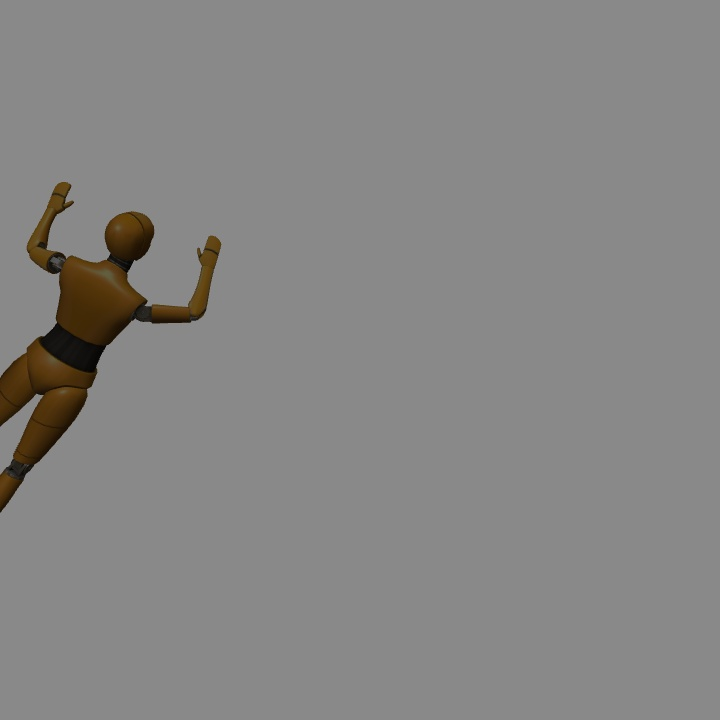victim: (1, 211, 219, 509)
